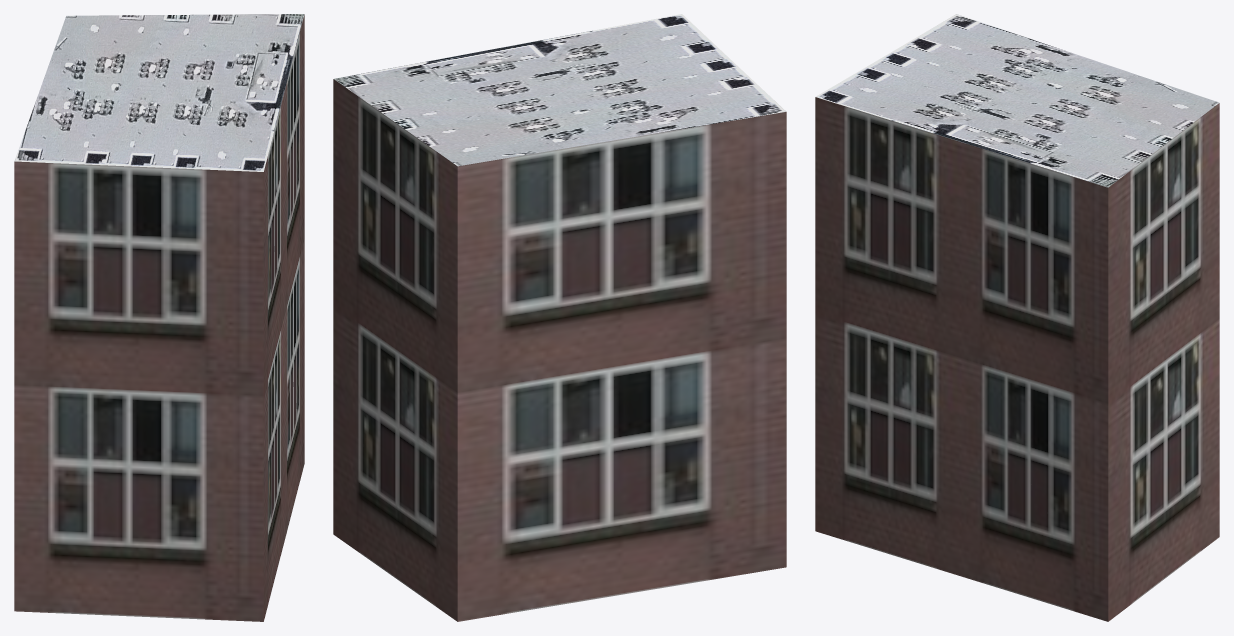
The model's file is ResTex__3305.fbx.
The picture shows the model from 3 angles, left to right: view 1: azimuth 30°, elevation 25°; view 2: azimuth 150°, elevation 25°; view 3: azimuth 270°, elevation 25°; orthographic projection. The views are drawn at different scales.
Visible parts, largest first — view 1: CityEngineMaterial_12_m, CityEngineMaterial_8_m; view 2: CityEngineMaterial_12_m, CityEngineMaterial_8_m; view 3: CityEngineMaterial_12_m, CityEngineMaterial_8_m.
Boxes of the visible parts, x1=… form: CityEngineMaterial_12_m: x1=14, y1=14, x2=304, y2=621; CityEngineMaterial_8_m: x1=14, y1=14, x2=304, y2=171; CityEngineMaterial_12_m: x1=333, y1=79, x2=786, y2=621; CityEngineMaterial_8_m: x1=334, y1=14, x2=786, y2=166; CityEngineMaterial_12_m: x1=815, y1=97, x2=1219, y2=621; CityEngineMaterial_8_m: x1=815, y1=14, x2=1219, y2=187.
Size of the model in its own units: 5.15 by 6 by 5.07.
Materials: 2 (2 with a texture image).
